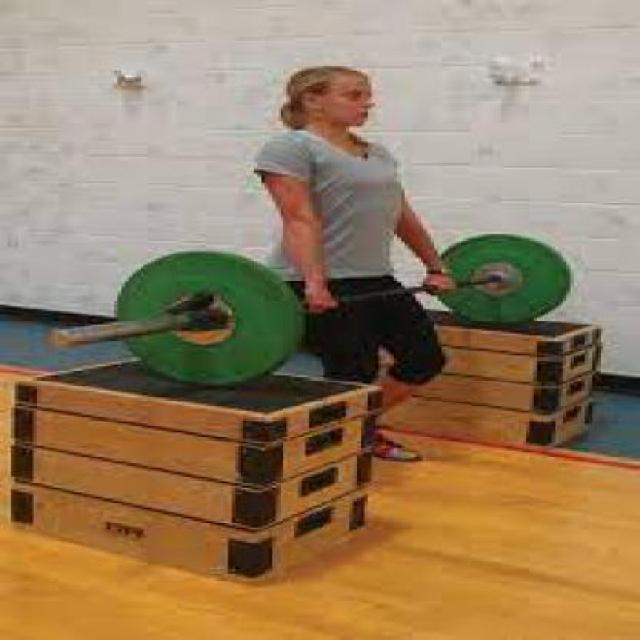barbell: (102, 244, 315, 393), (418, 229, 581, 335)
